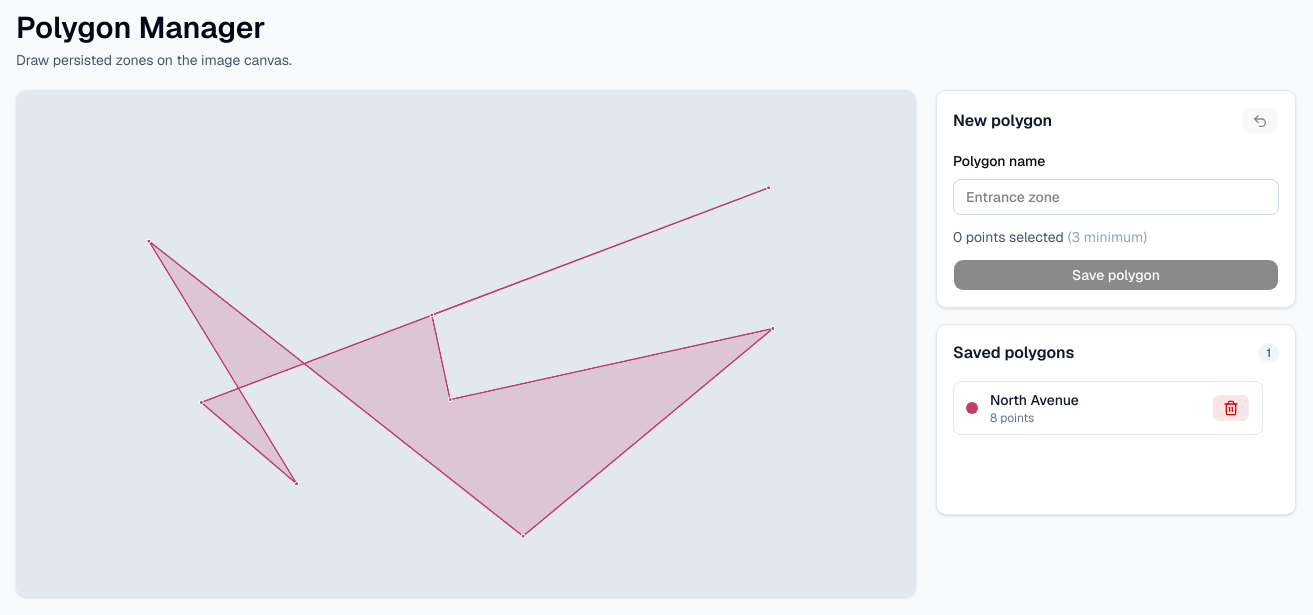
Test: PolygonManager › deletes polygons through the Server Action transport
Click the 3rd button: (1231, 408) [1212,394,1250,422]
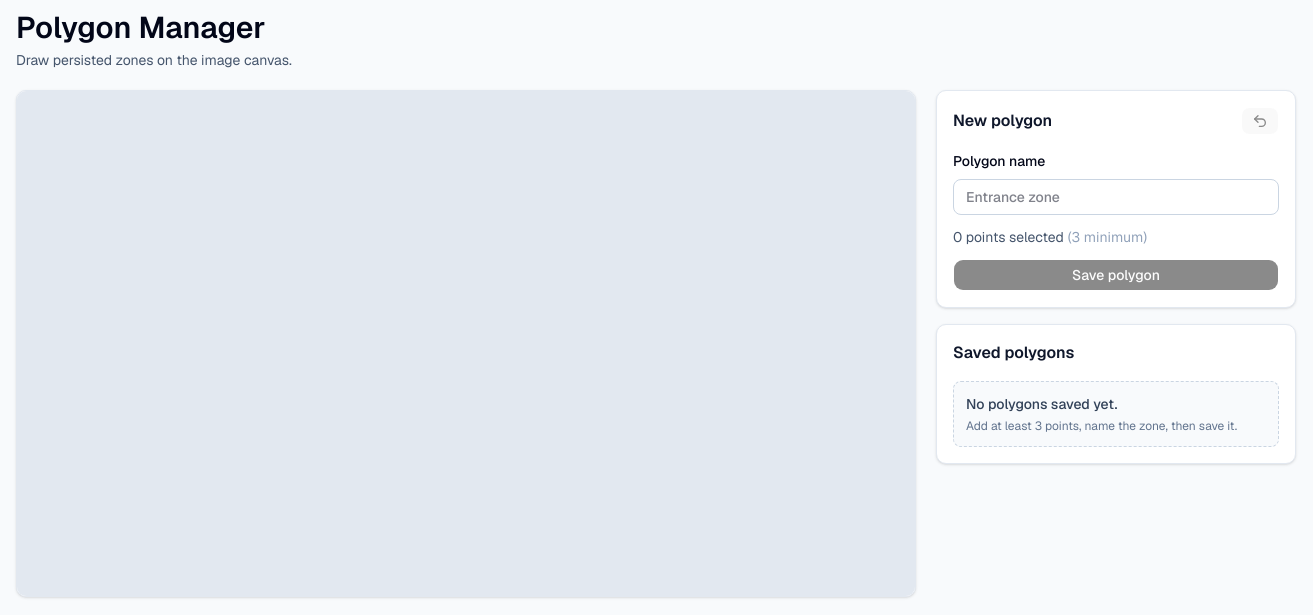
expect the text "No polygons saved yet." is shown: met, box [966,395,1117,413]
